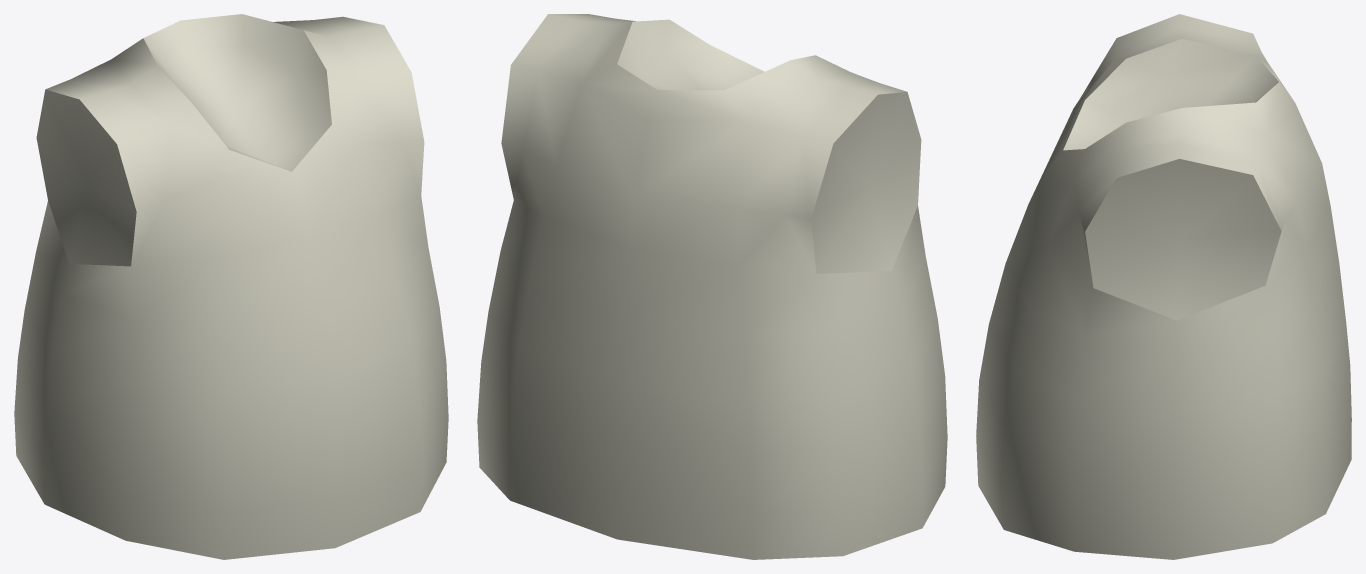
Rendered from Chest_60.fbx.
3 views of the same model, side by side, from view 1: azimuth 30°, elevation 25°; view 2: azimuth 150°, elevation 25°; view 3: azimuth 270°, elevation 25° (orthographic). The views are drawn at different scales.
Parts seen in each view (by area): view 1: Chest_60; view 2: Chest_60; view 3: Chest_60.
Part boxes in pixels (box(x1,y1,x2,y2)): Chest_60: box(14, 14, 448, 559); Chest_60: box(477, 14, 947, 559); Chest_60: box(976, 14, 1351, 559).
Size of the model in its own units: 41 by 43.35 by 35.79.
